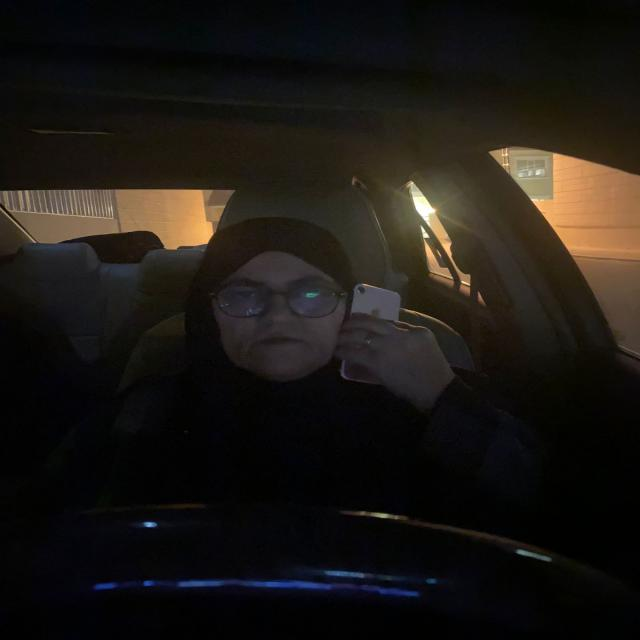mobile: (340, 276, 406, 389)
person: (196, 223, 345, 386)
